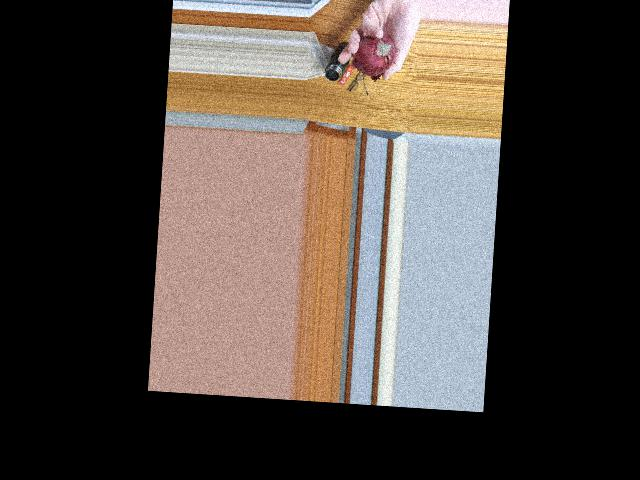onion: (353, 32, 397, 72)
